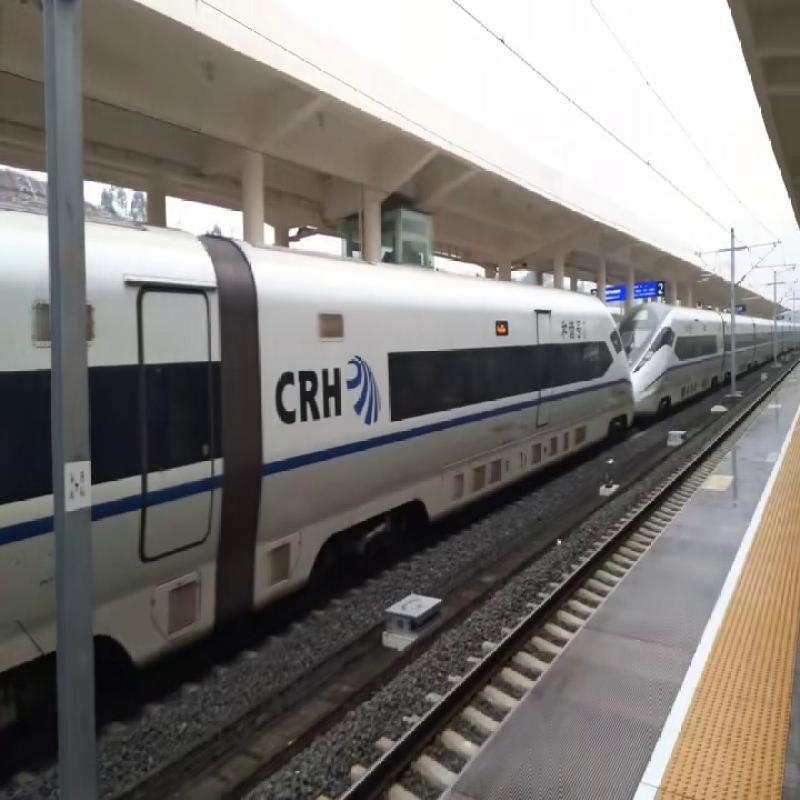train: (242, 260, 638, 479), (633, 304, 729, 406)
